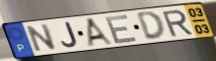A: (86, 16, 117, 48)
D: (135, 10, 167, 41)
E: (104, 13, 140, 45)
J: (60, 21, 80, 49)
N: (26, 23, 59, 54)
R: (160, 9, 195, 38)
